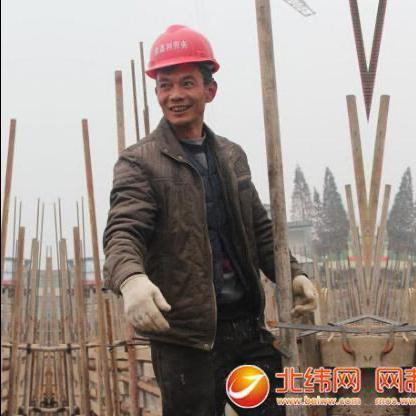Helmet: (136, 12, 226, 136)
